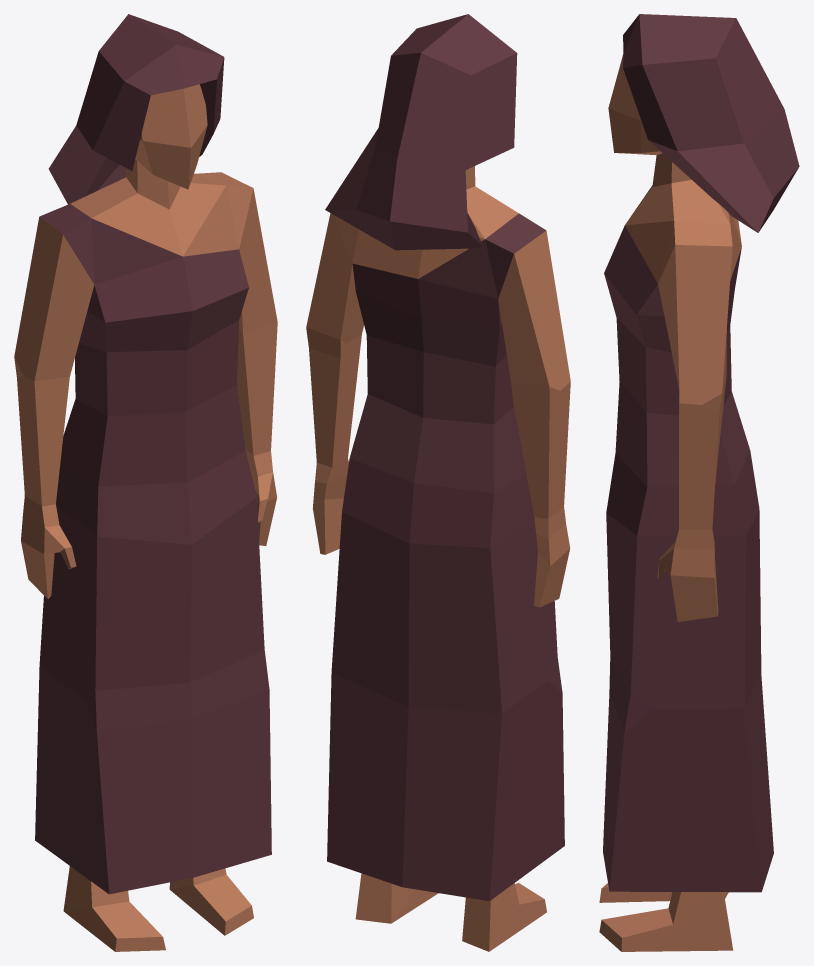
File: woman-egypt-worker.fbx
3 views of the same model, side by side, from view 1: azimuth 30°, elevation 25°; view 2: azimuth 150°, elevation 25°; view 3: azimuth 270°, elevation 25° (orthographic). The views are drawn at different scales.
Parts seen in each view (by area): view 1: woman-egypt-worker; view 2: woman-egypt-worker; view 3: woman-egypt-worker.
Boxes of the visible parts, <box> form: woman-egypt-worker: <box>14,14,277,951</box>; woman-egypt-worker: <box>306,14,570,951</box>; woman-egypt-worker: <box>599,14,799,951</box>.
Bounding box in the file's own units: 0.5287 × 1.83 × 0.3674.
